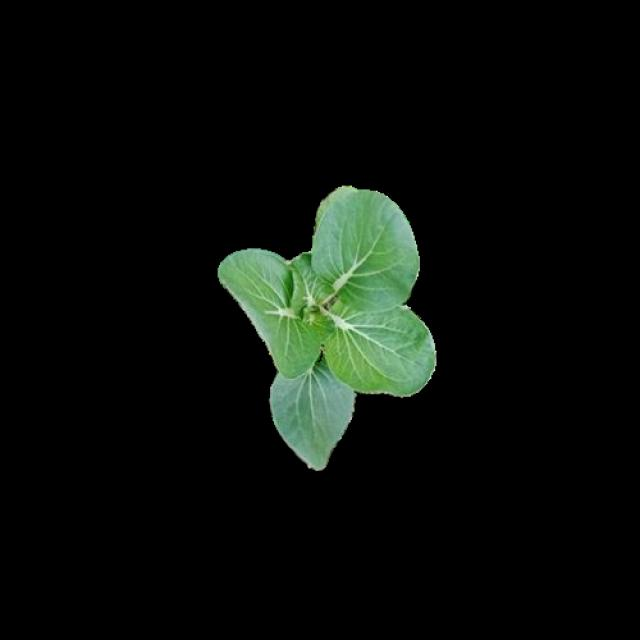healthy: (216, 181, 433, 467)
not-mature: (219, 183, 435, 470)
